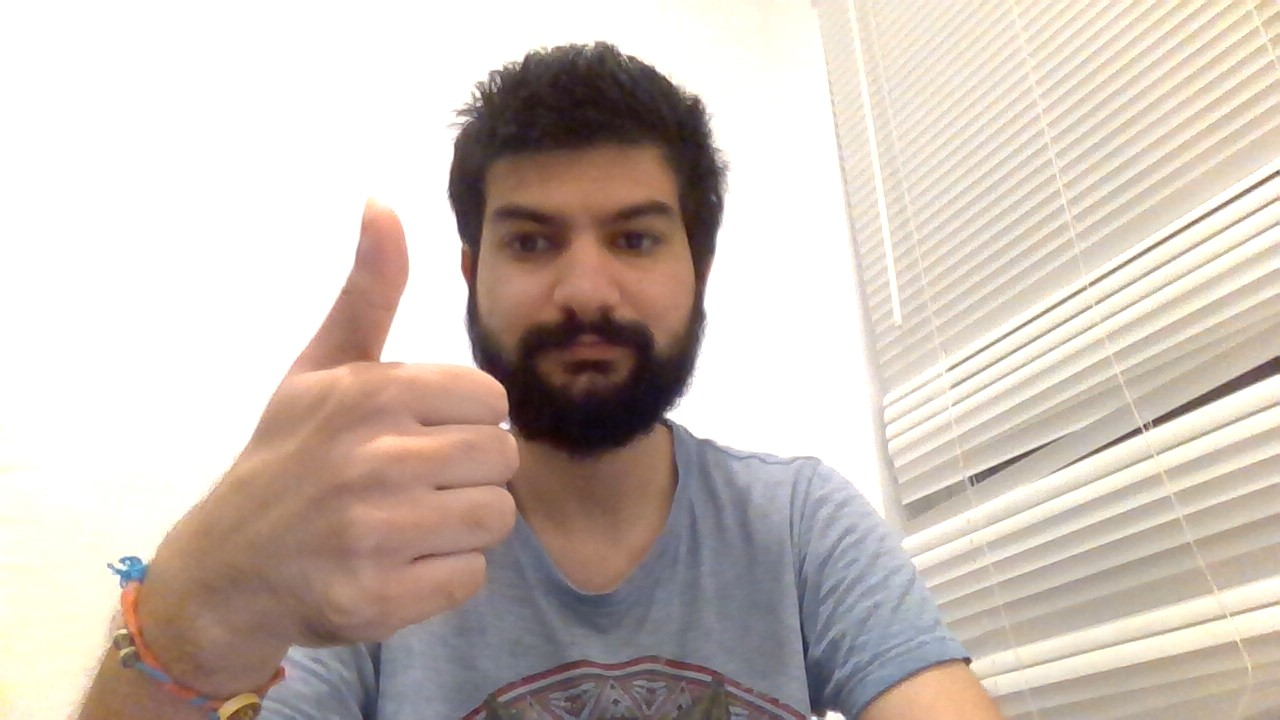up: (255, 184, 540, 659)
